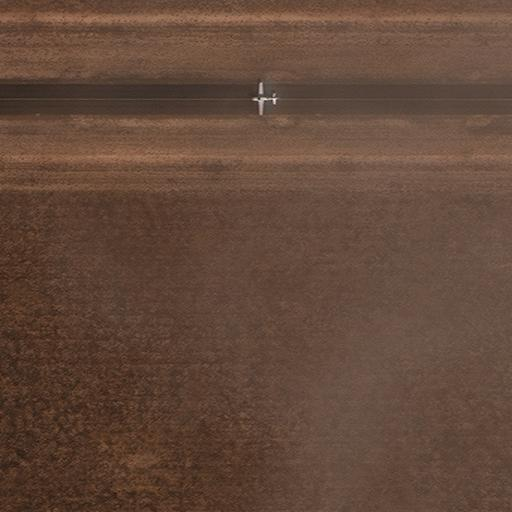Small Civil Transport: (251, 82, 278, 115)
